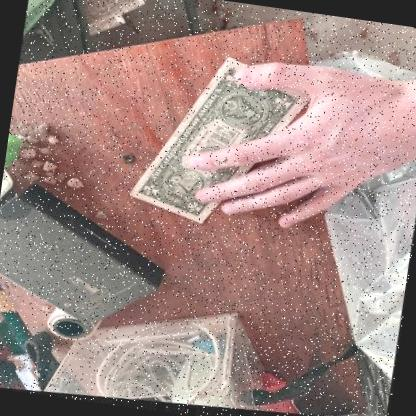one-back: (128, 58, 313, 225)
